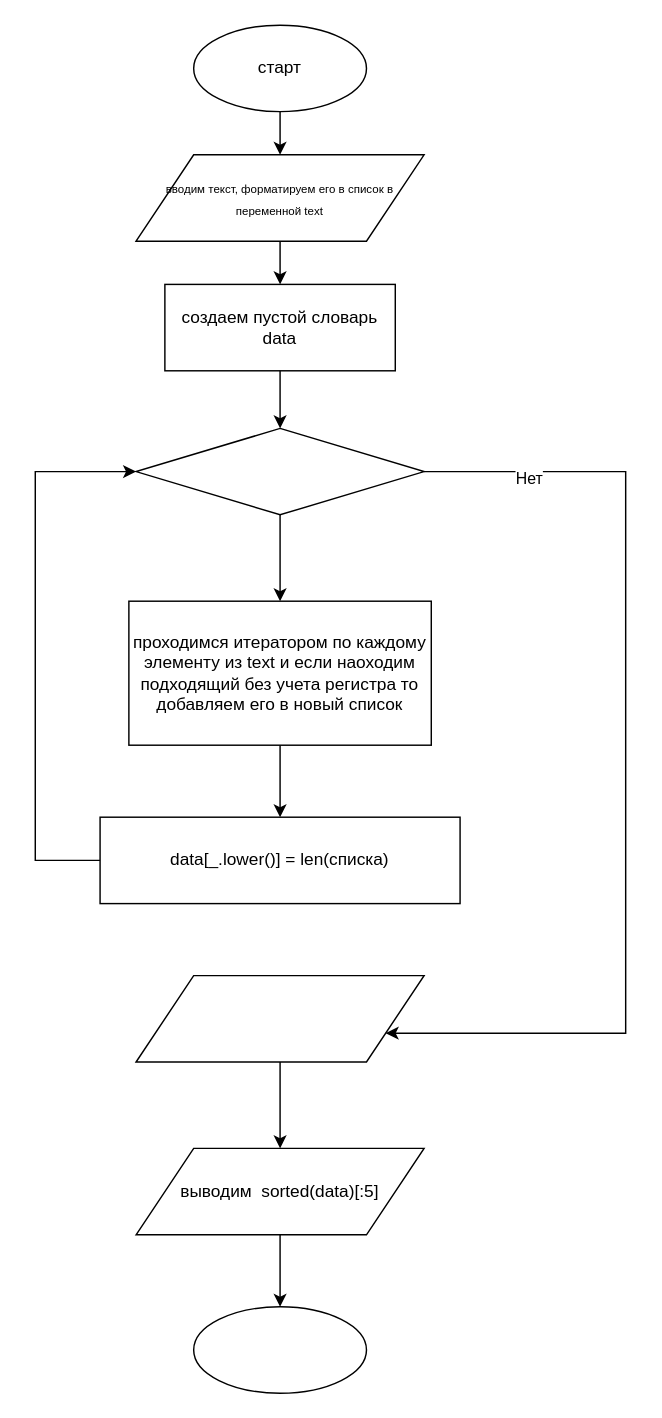
The diagram is 662 pixels wide and 1418 high, and some of its shapes have lost their labels. The shapes that lost their labels are listed below. From the top down, each one's centre as x and y in pixels, then its label:
At (279,471): "проверяем есть ли строка в списке text".
At (279,1018): "выводим словарь data".
At (279,1349): "стоп".
